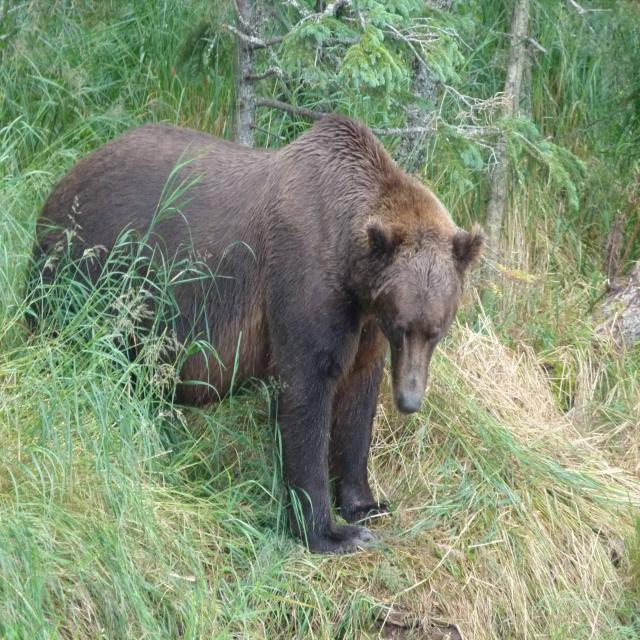bear face: (22, 111, 481, 549)
